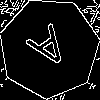A: (24, 23, 78, 80)
